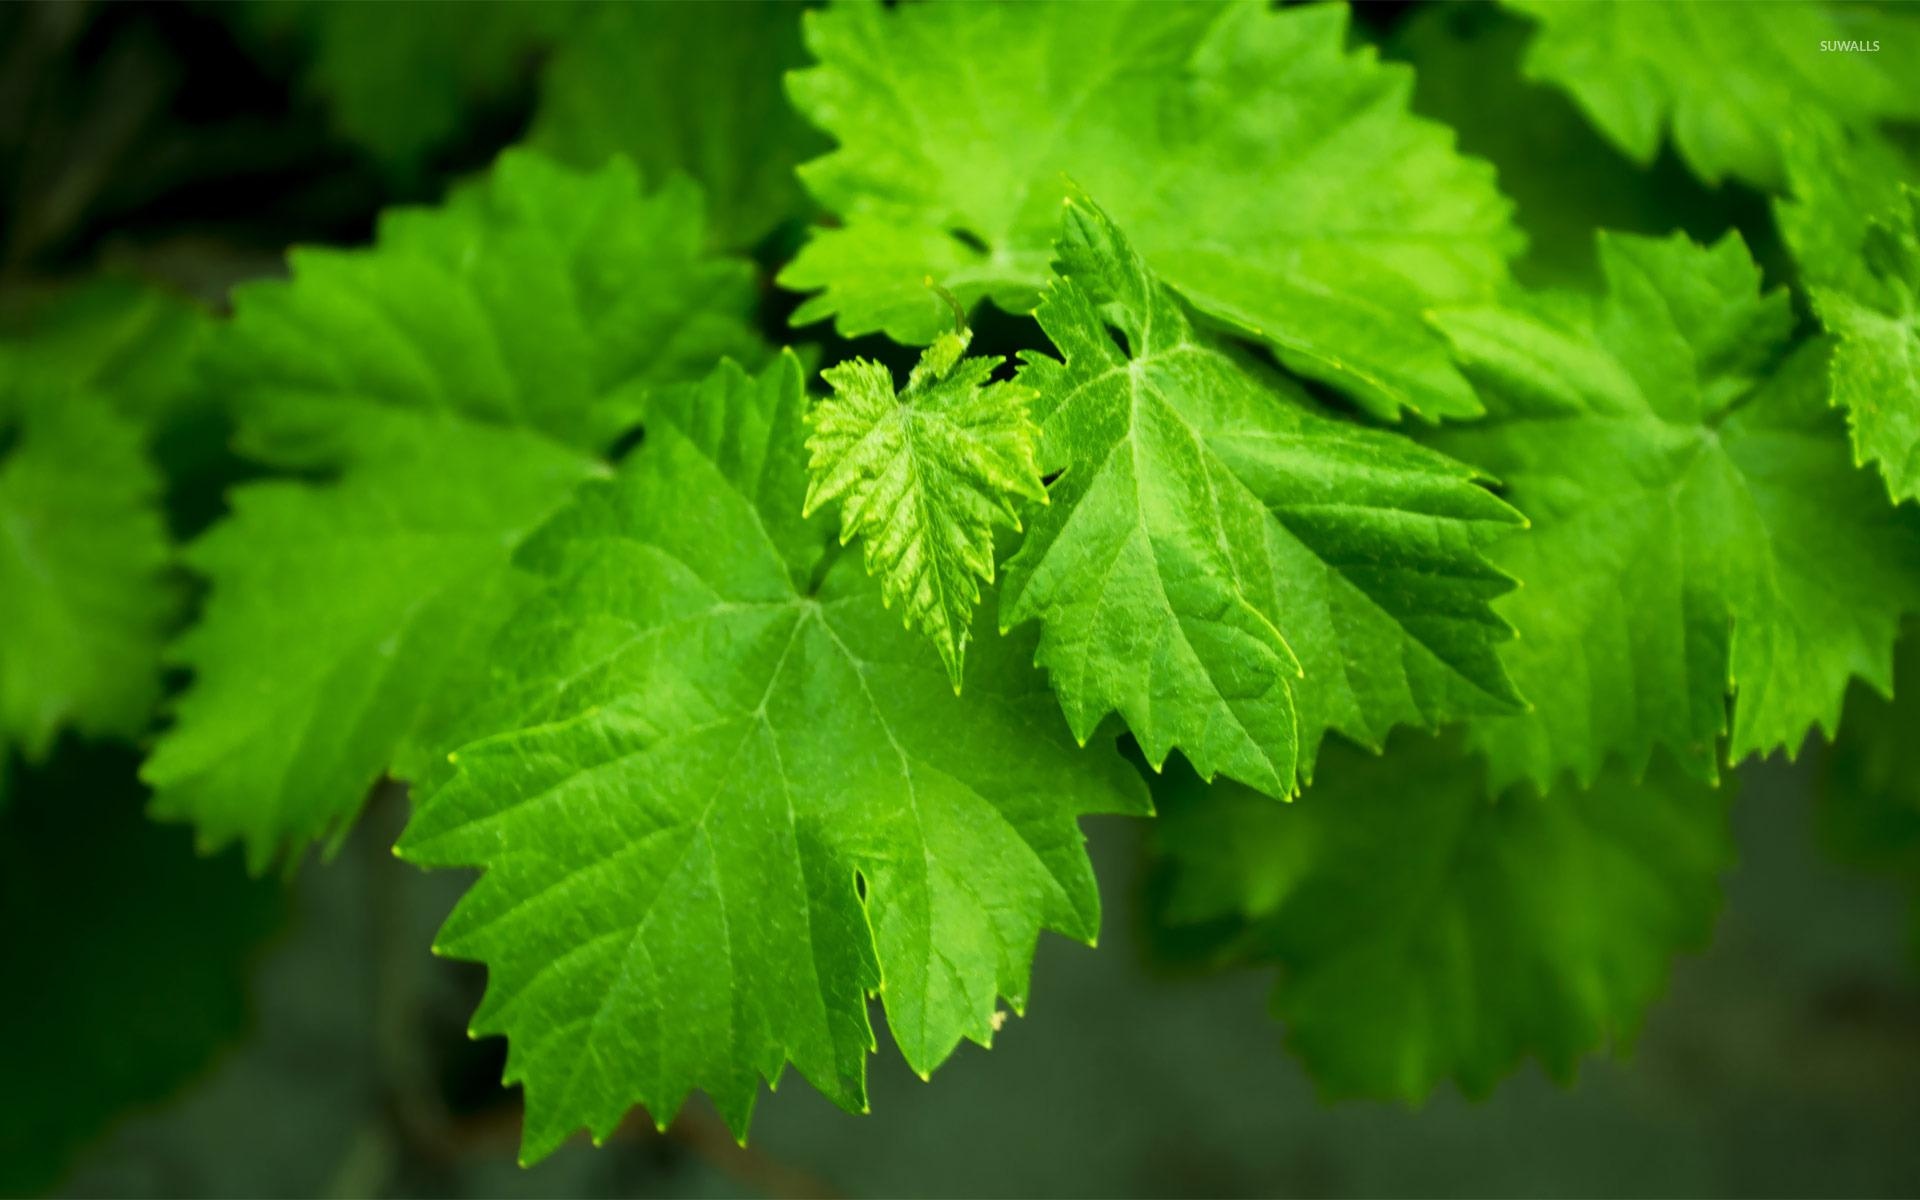grape leaf black rot: (422, 371, 1082, 1176), (1015, 207, 1504, 785), (803, 319, 1051, 706)
